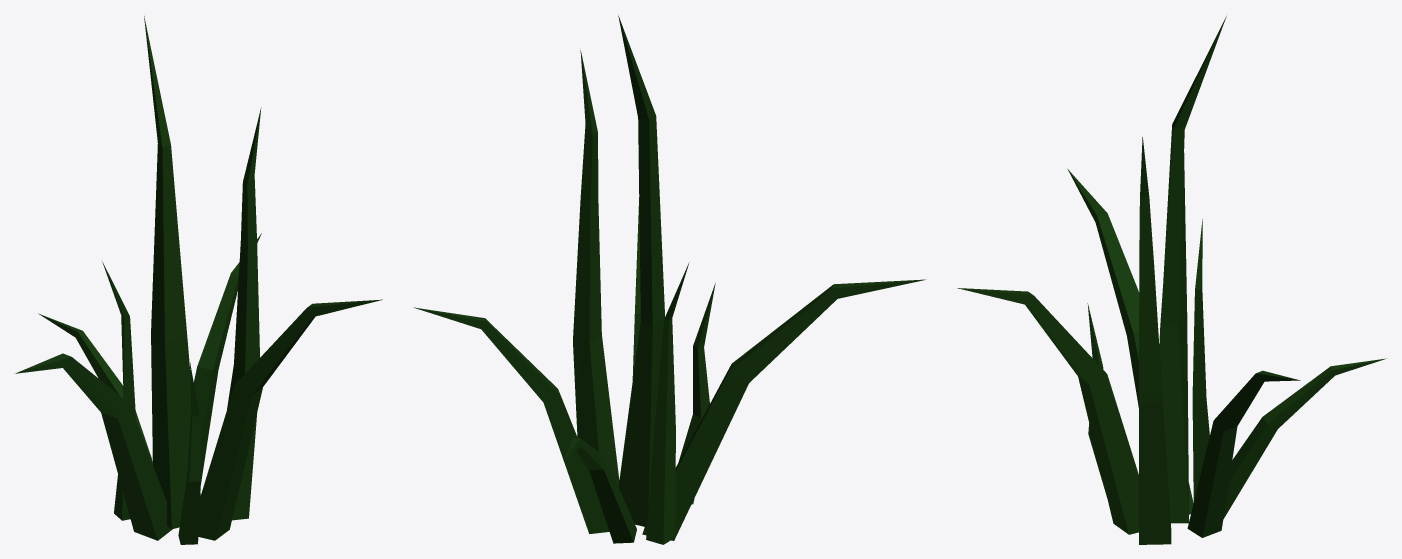
The model's file is grass3.obj.
3 views of the same model, side by side, from view 1: azimuth 30°, elevation 25°; view 2: azimuth 150°, elevation 25°; view 3: azimuth 270°, elevation 25° (orthographic). The views are drawn at different scales.
Visible parts, largest first — view 1: Grass3.001_Cube.050; view 2: Grass3.001_Cube.050; view 3: Grass3.001_Cube.050.
Boxes of the visible parts, box(x1,y1,x2,y2) form: Grass3.001_Cube.050: box(14, 16, 382, 544); Grass3.001_Cube.050: box(413, 15, 925, 544); Grass3.001_Cube.050: box(957, 16, 1387, 544).
Size of the model in its own units: 1.43 by 1.87 by 1.44.
